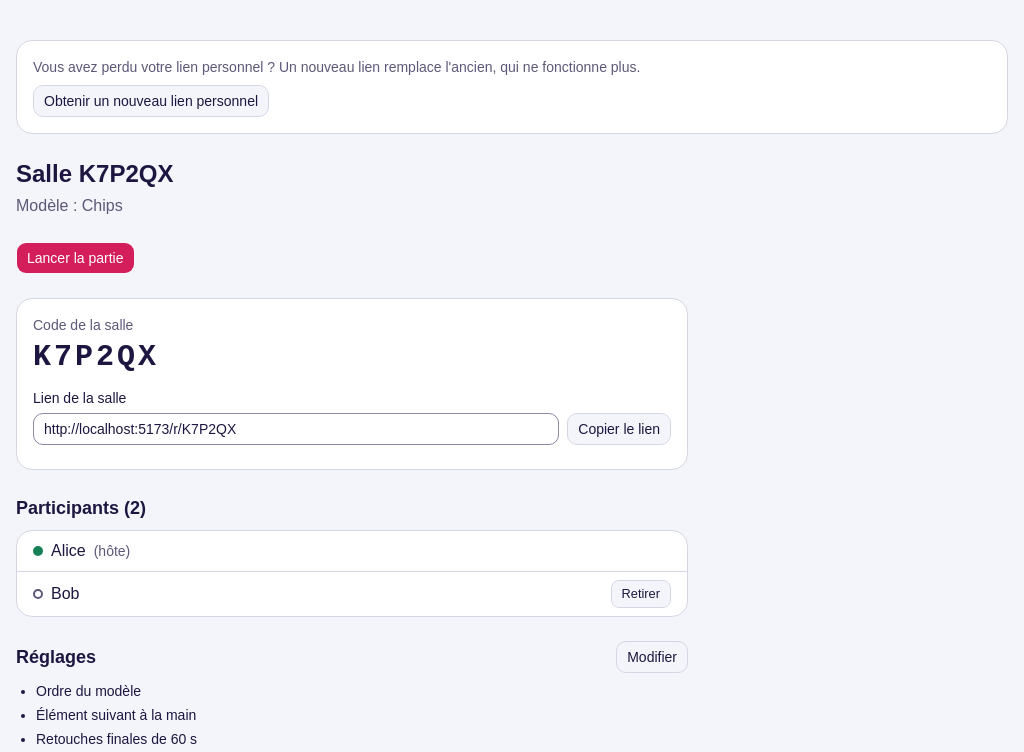
RoomPage › copies the link and announces it
Click the button "Copier le lien".
click(619, 429)  # box [567,413,671,445]
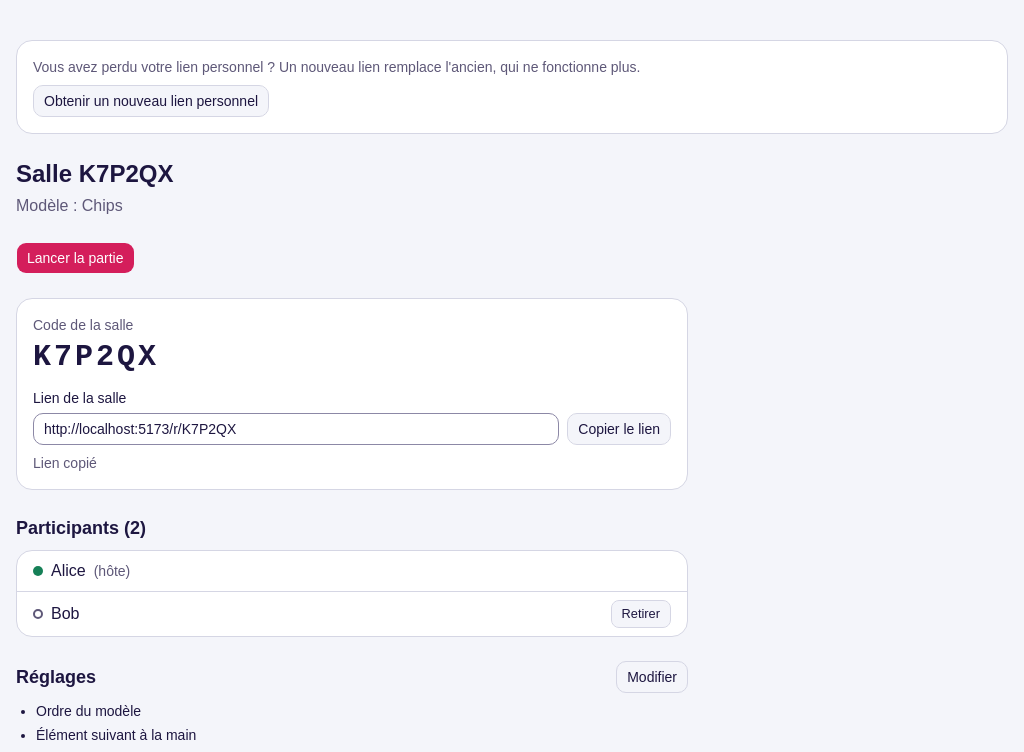
expect the text "Lien copié" is shown: met, box [33,455,97,471]
